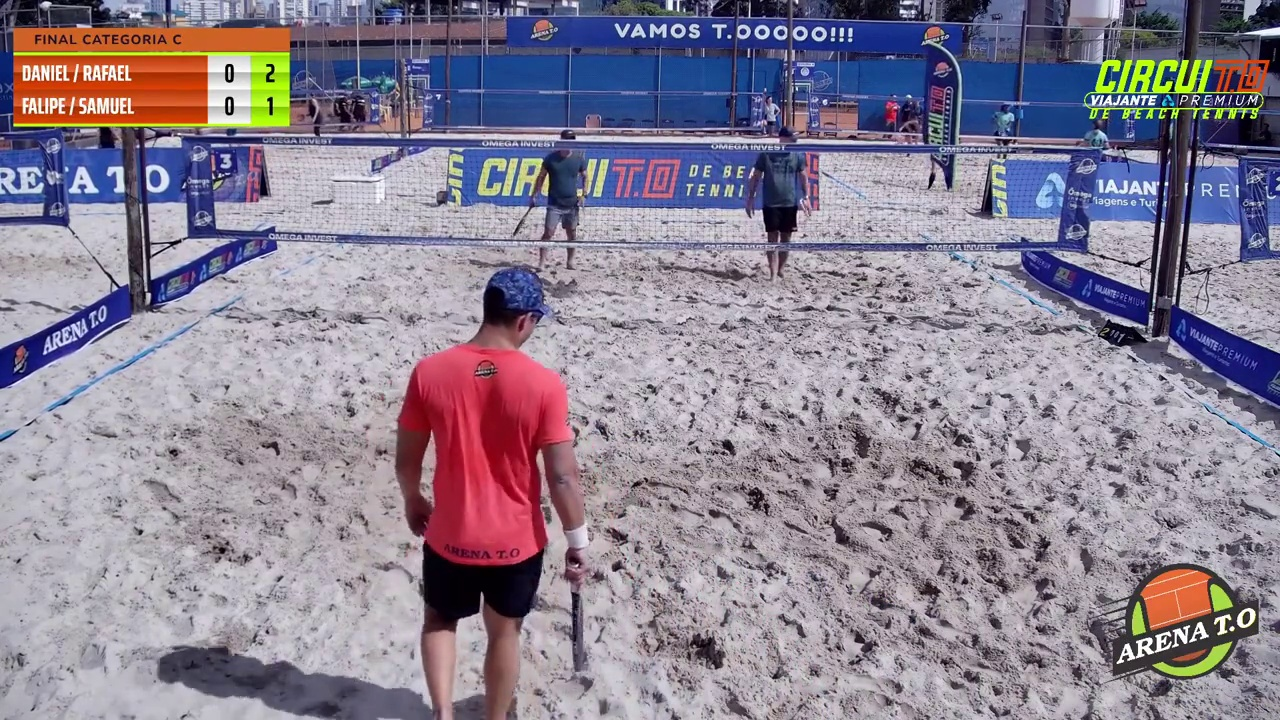court_line: (645, 0, 797, 343), (548, 0, 669, 397)
